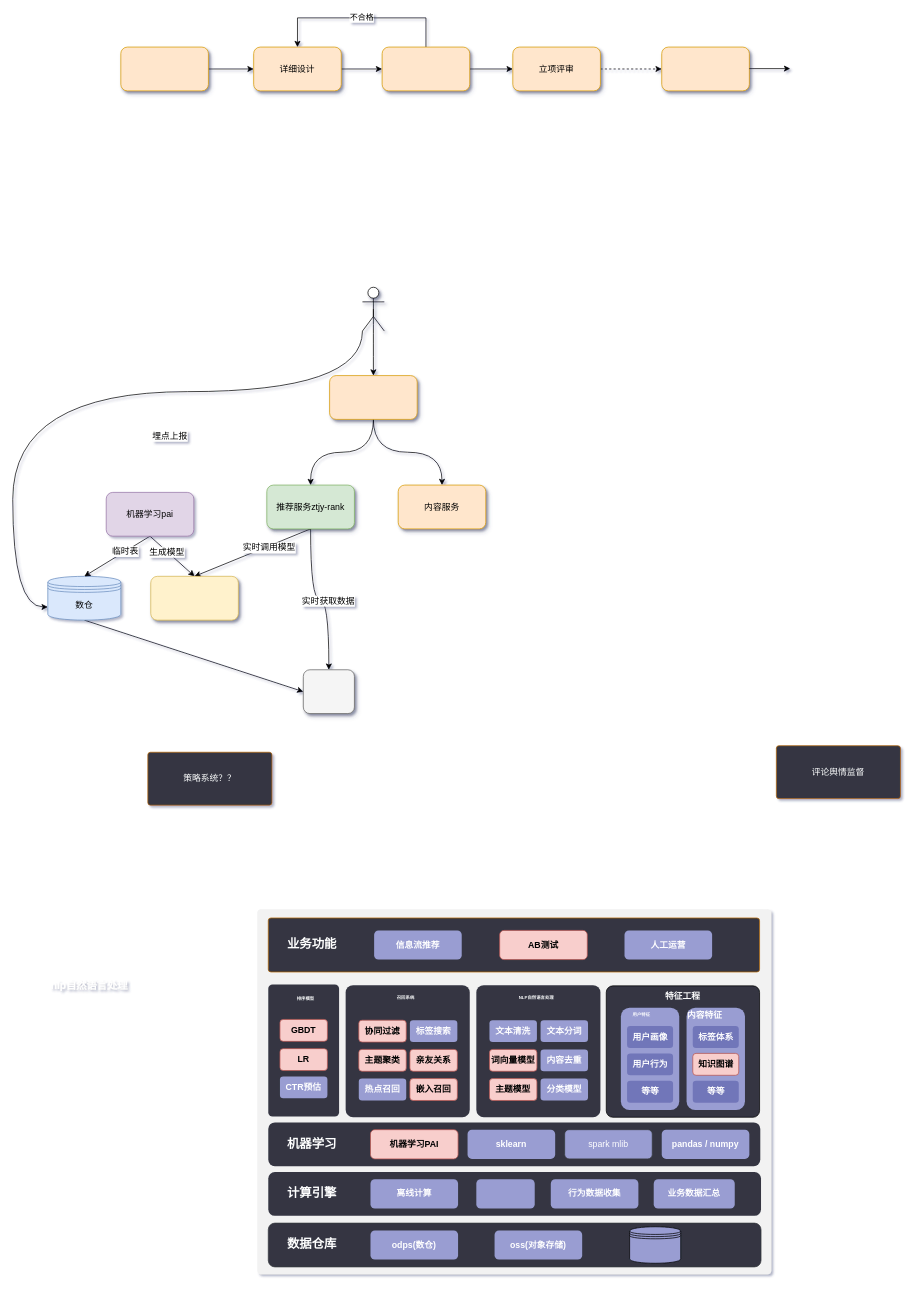
Some shapes in this 918 by 1291 pixel diagram are drawn without their labels. Each missing label, with the centre of its shape:
"Actor" goes at point 374,310.
"redis" goes at point 329,692.
"业务数据库" goes at point 655,1244.
"代码review" goes at point 706,69.
"信息流服务" goes at point 374,398.
"内部评审" goes at point 426,69.
"实时计算" goes at point 505,1193.
"模型服务" goes at point 195,599.
"需求宣讲" goes at point 165,69.
